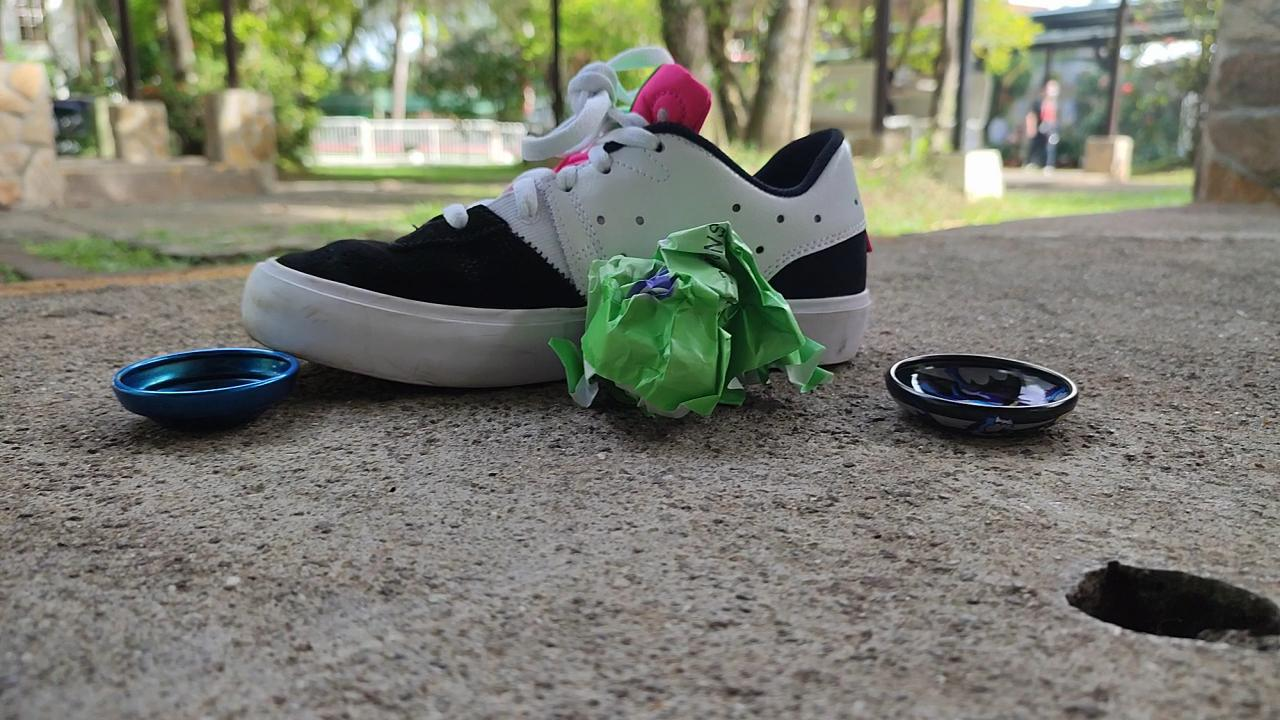Paper: (539, 205, 845, 443)
